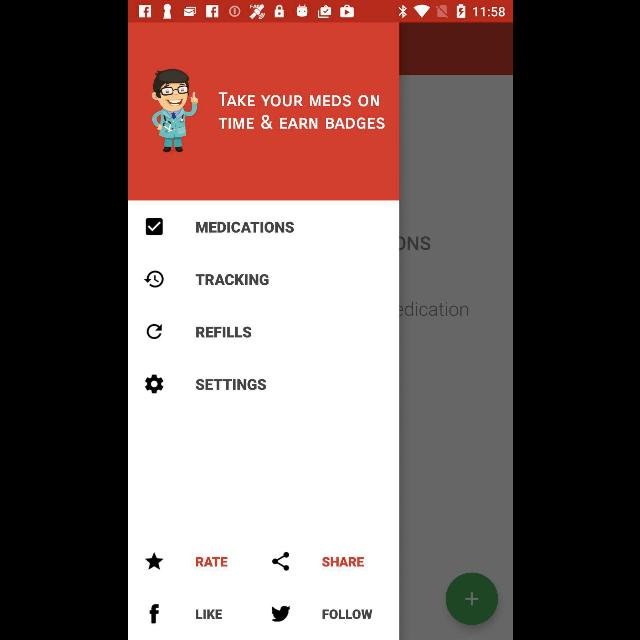button: (444, 572, 498, 626)
icon: (143, 270, 163, 288), (144, 374, 162, 394), (144, 552, 162, 570), (272, 552, 288, 572), (270, 606, 290, 622), (144, 218, 162, 235), (146, 324, 162, 340), (149, 604, 159, 624)
image: (150, 69, 198, 153)
panel: (128, 22, 398, 640)
text: (218, 114, 384, 130), (218, 92, 378, 108), (195, 222, 293, 232), (196, 274, 268, 286), (195, 380, 265, 390), (195, 327, 251, 338), (322, 609, 372, 619), (321, 557, 363, 567), (195, 557, 227, 567), (194, 609, 222, 619)
uppertaskbar: (128, 1, 512, 23)
